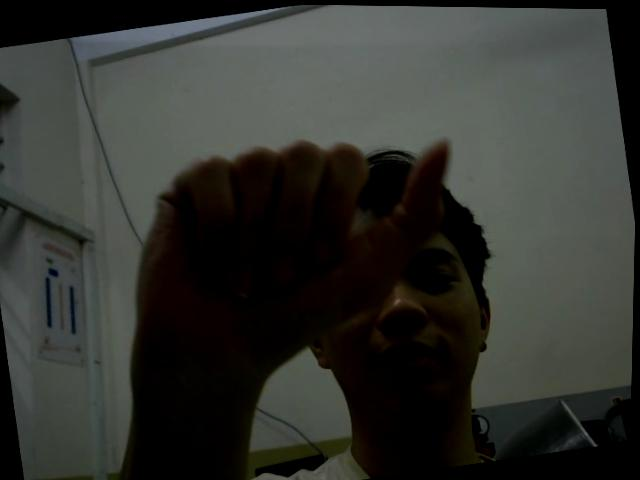A: (108, 112, 478, 364)
